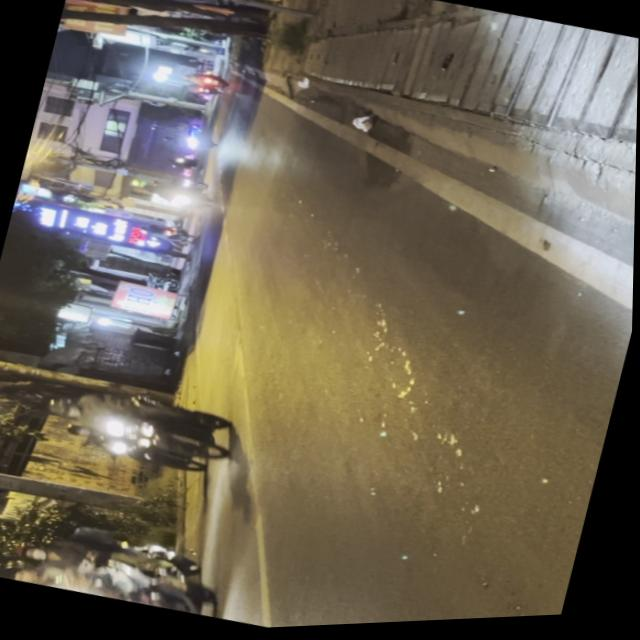helmet: (45, 394, 81, 419), (18, 539, 54, 564), (12, 564, 48, 586)
licenseplate: (9, 511, 242, 629), (37, 369, 247, 482)
